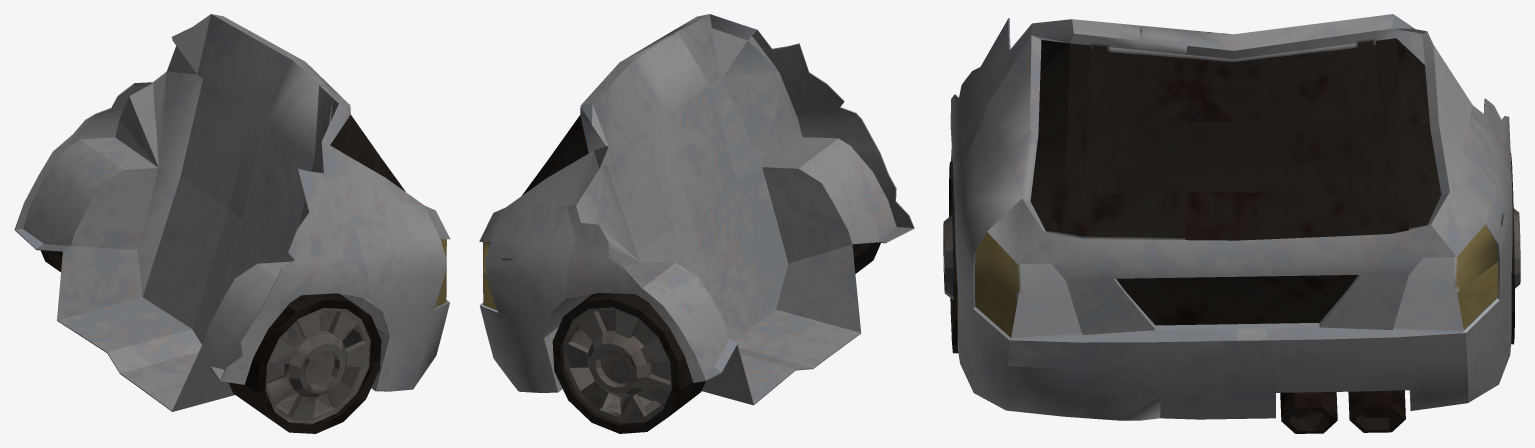
File: P_CAR WRECKED HATCHBACK 3.fbx
3 renders of one model, left to right at view 1: azimuth 30°, elevation 25°; view 2: azimuth 150°, elevation 25°; view 3: azimuth 270°, elevation 25°, orthographic. The views are drawn at different scales.
Parts seen in each view (by area): view 1: Car_Wrecked_Hatchback_3; view 2: Car_Wrecked_Hatchback_3; view 3: Car_Wrecked_Hatchback_3.
Part boxes in pixels (left/top/right/bottom): Car_Wrecked_Hatchback_3: left=14, top=14, right=450, bottom=433; Car_Wrecked_Hatchback_3: left=479, top=14, right=914, bottom=433; Car_Wrecked_Hatchback_3: left=943, top=14, right=1520, bottom=433.
Size of the model in its own units: 163 by 173 by 246.
